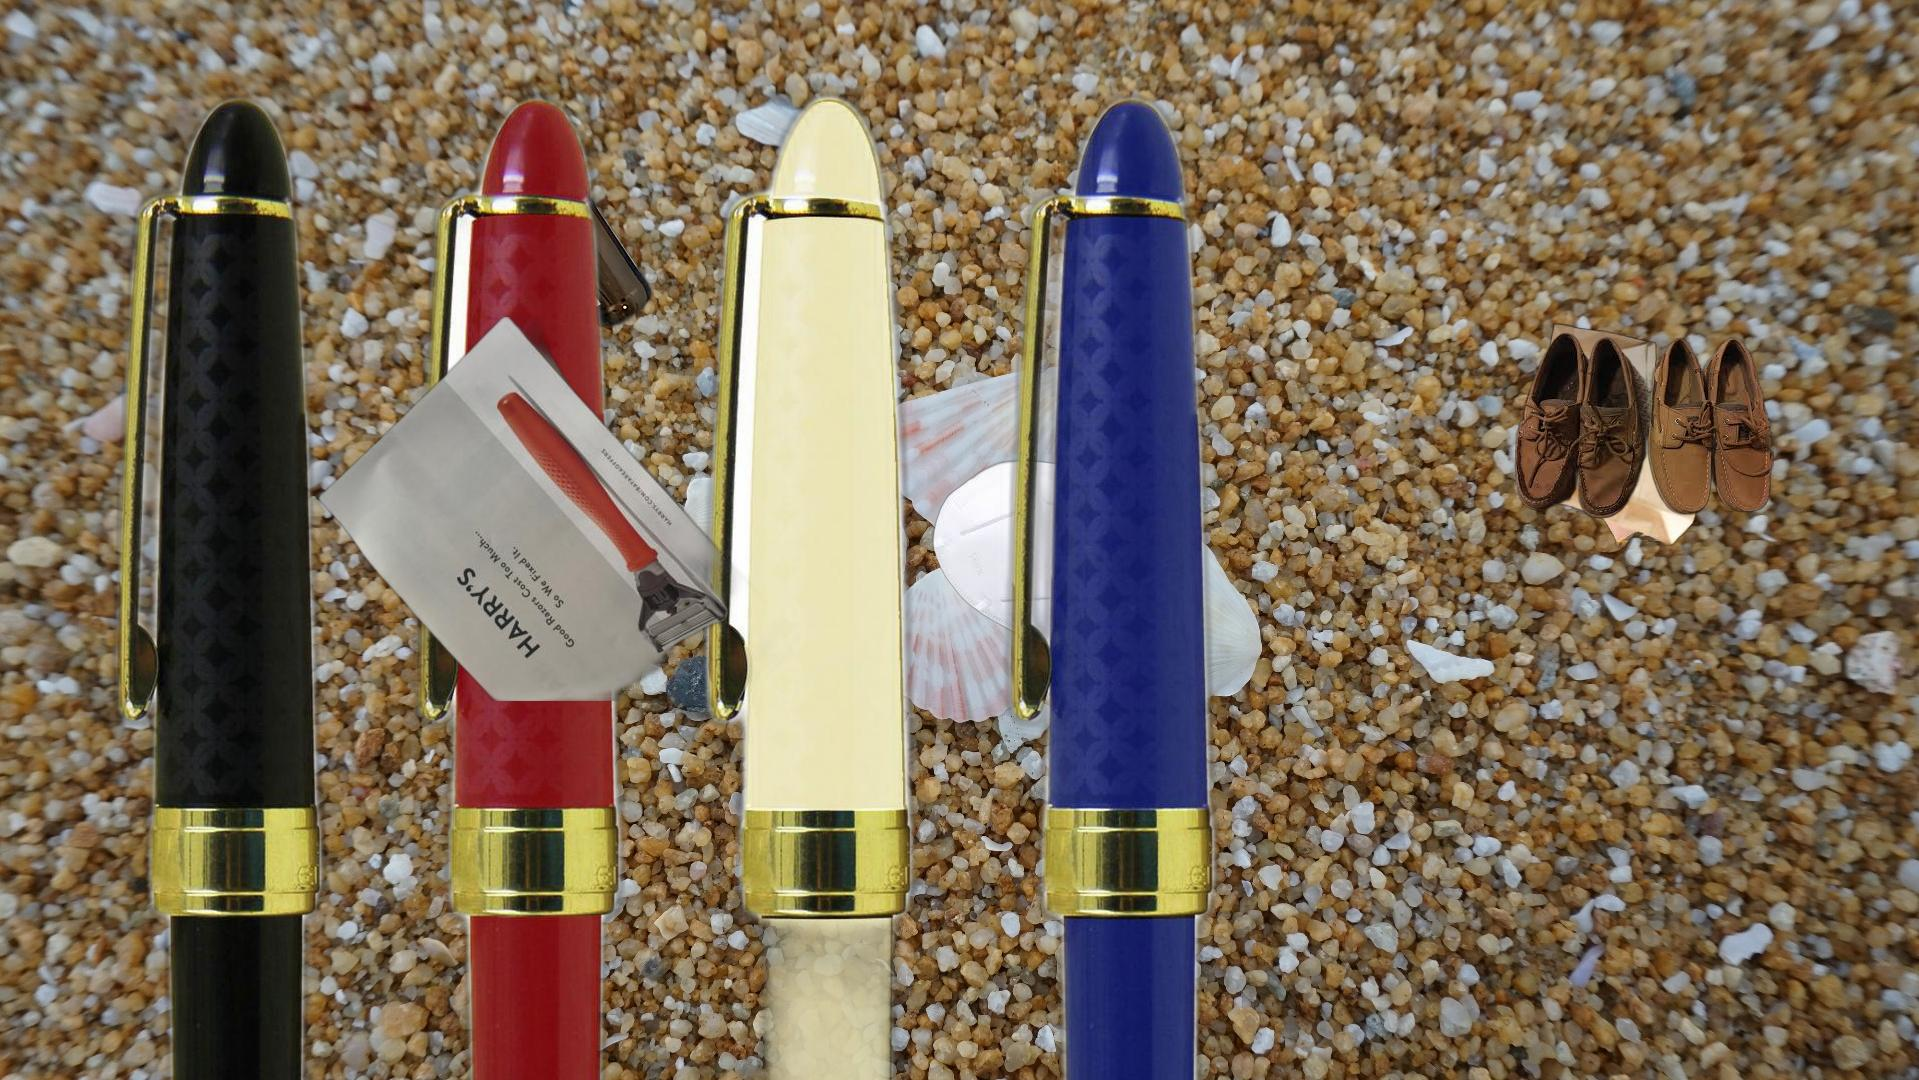glass: (493, 121, 656, 334)
paper: (314, 316, 809, 702)
paper-bag: (1520, 320, 1711, 551)
penholder: (99, 79, 1624, 1080)
shoes: (1514, 330, 1774, 521)
trash: (931, 458, 1147, 650)
